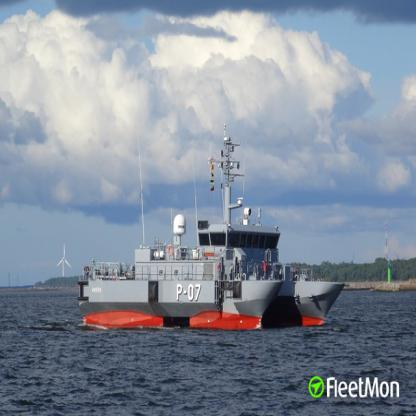Patrol Boat: (76, 123, 346, 329)
